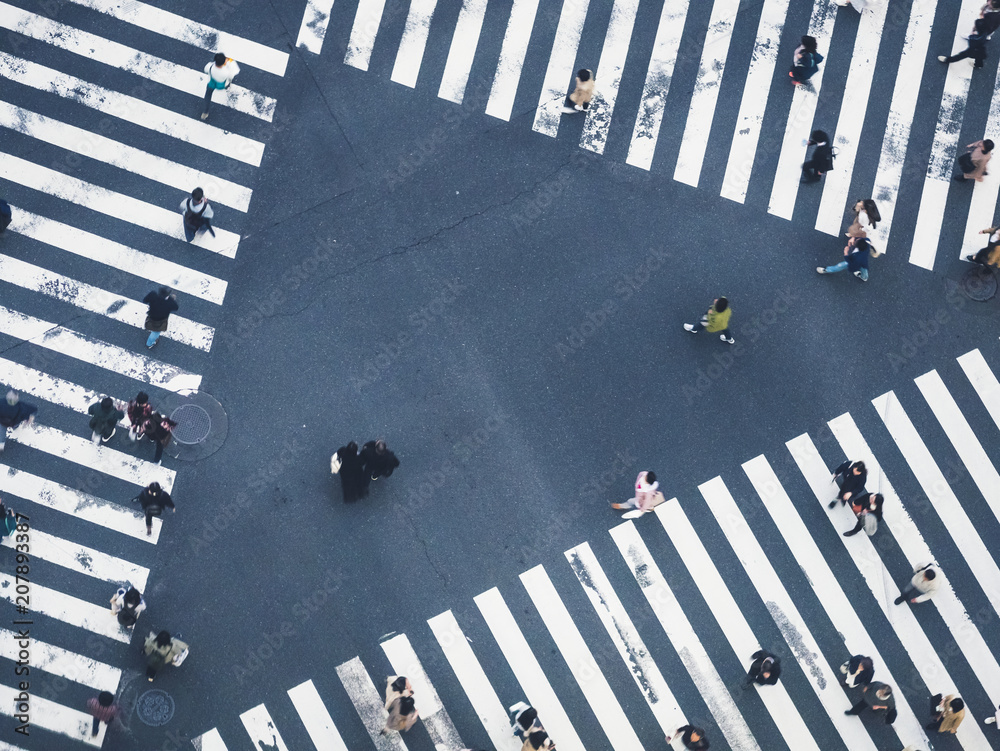Crosswalk: (13, 1, 246, 357), (330, 10, 779, 191), (424, 547, 860, 643)
